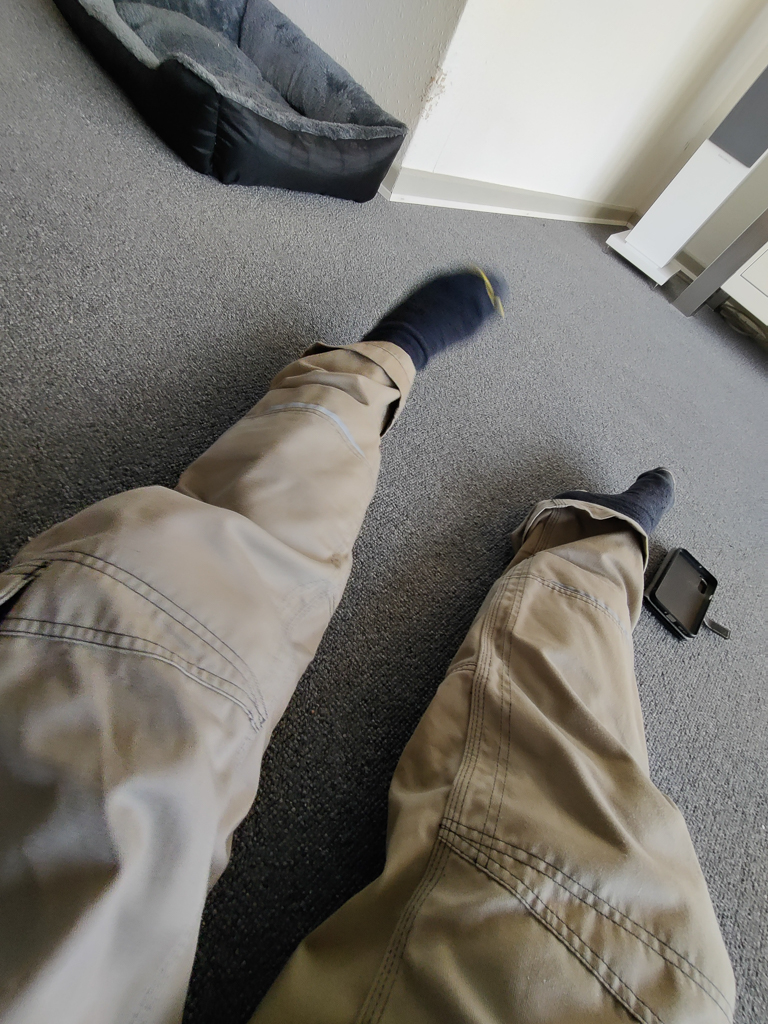Humanoid: (0, 254, 747, 1024)
